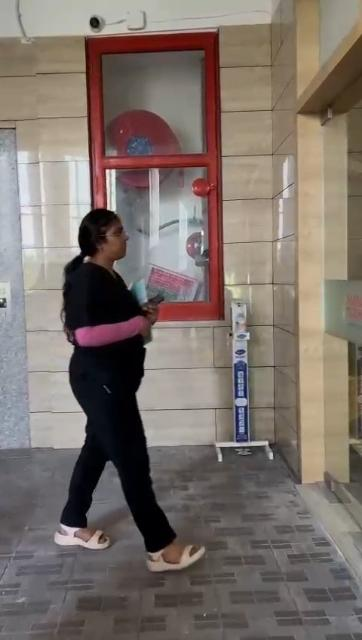floor: (0, 444, 358, 632)
moving-obj: (49, 185, 193, 565)
wall: (220, 33, 312, 290), (22, 42, 87, 210)
